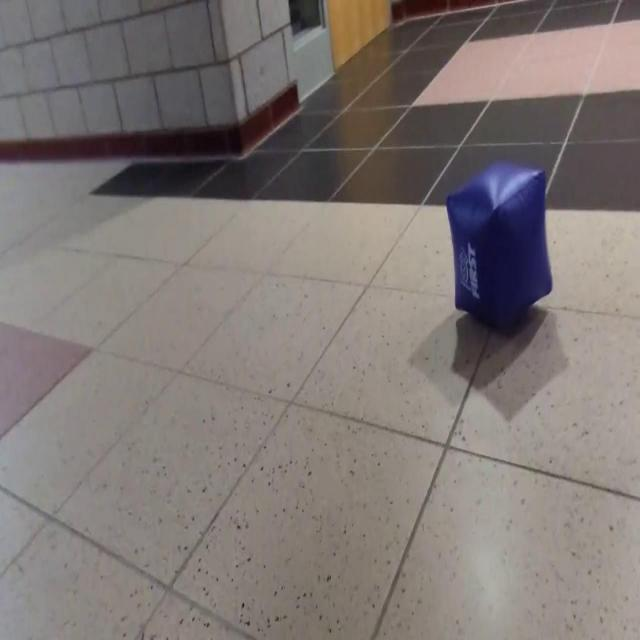frc_cube: (442, 158, 553, 336)
